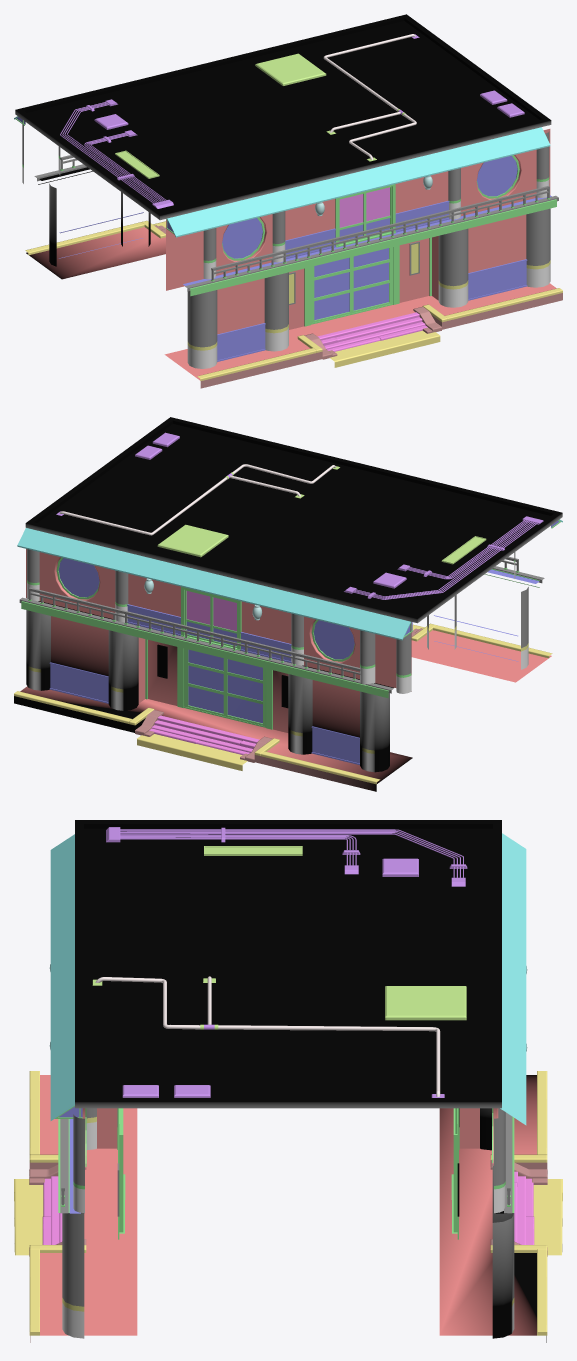
Rendered from SM_ENV_KNVLLG03_AreaA_Building_C.gltf.
3 renders of one model, top to bottom at view 1: azimuth 30°, elevation 25°; view 2: azimuth 150°, elevation 25°; view 3: azimuth 270°, elevation 25°, orthographic. The views are drawn at different scales.
Parts seen in each view (by area): view 1: SM_ENV_KNVLLG03_AreaA_Building_C; view 2: SM_ENV_KNVLLG03_AreaA_Building_C; view 3: SM_ENV_KNVLLG03_AreaA_Building_C.
Part boxes in pixels (x1,y1,x2,y2): SM_ENV_KNVLLG03_AreaA_Building_C: (14, 14, 562, 388); SM_ENV_KNVLLG03_AreaA_Building_C: (14, 417, 562, 791); SM_ENV_KNVLLG03_AreaA_Building_C: (14, 820, 562, 1342).
Size of the model in its own units: 31.3 by 13.36 by 25.62.
